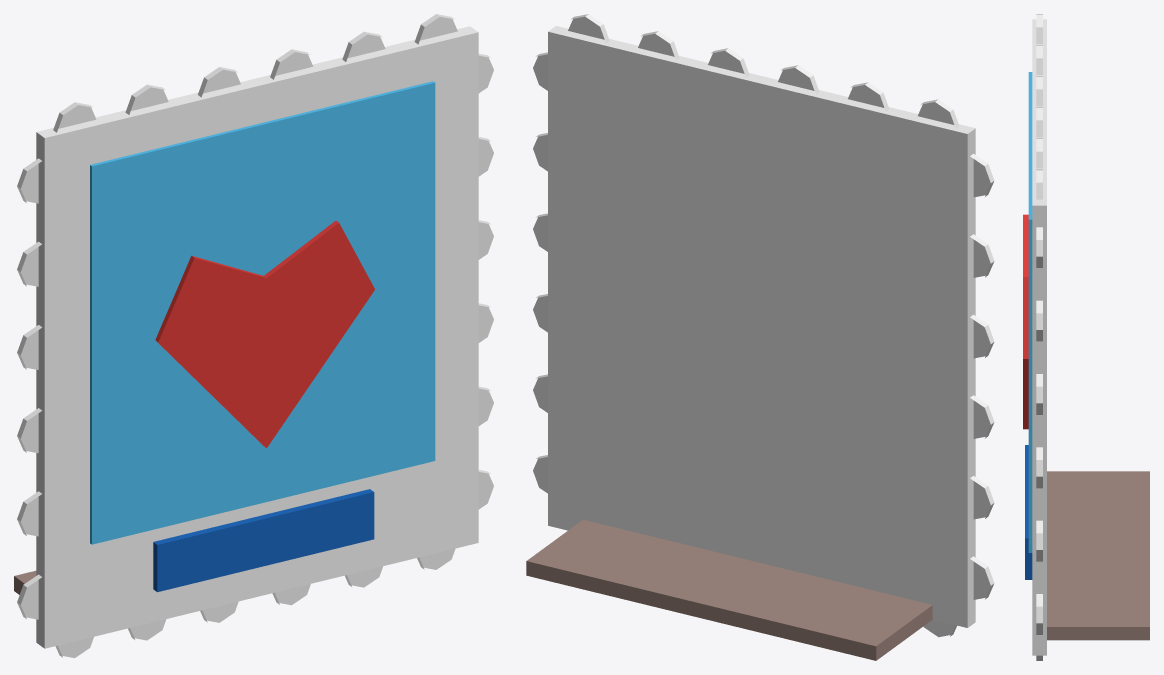
Rendered from frimarke.glb.
The picture shows the model from 3 angles, left to right: view 1: azimuth 30°, elevation 25°; view 2: azimuth 150°, elevation 25°; view 3: azimuth 270°, elevation 25°; orthographic projection. The views are drawn at different scales.
Visible parts, largest first — view 1: frimarke; view 2: frimarke; view 3: frimarke.
Part boxes in pixels (box(x1,y1,x2,y2)): frimarke: box(14, 14, 493, 658); frimarke: box(526, 14, 994, 660); frimarke: box(1023, 14, 1149, 660).
Size of the model in its own units: 0.264 by 0.294 by 0.069.
